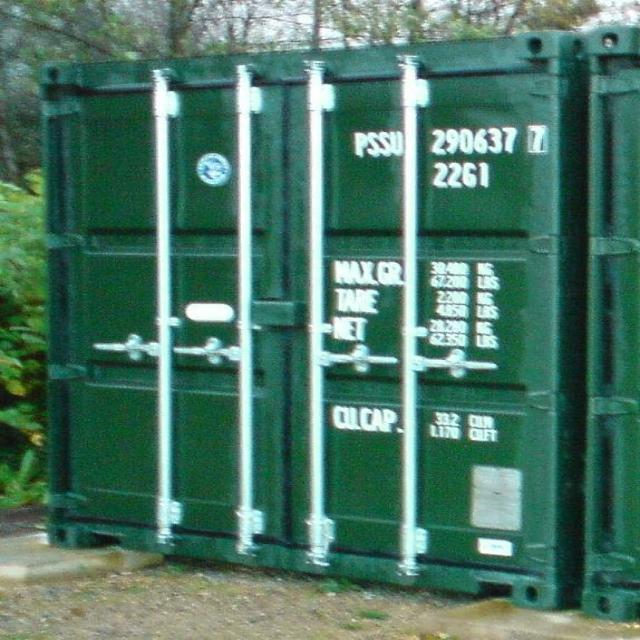ISO: (433, 160, 496, 192)
container_number: (359, 120, 549, 158)
